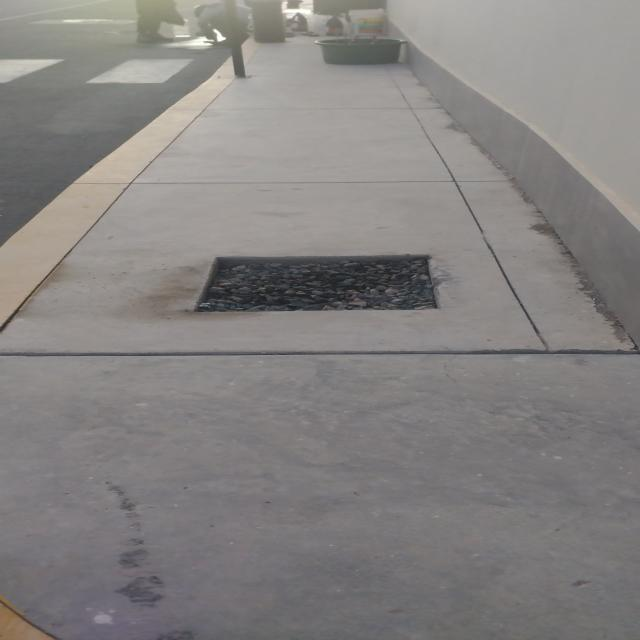hole: (186, 249, 444, 321)
